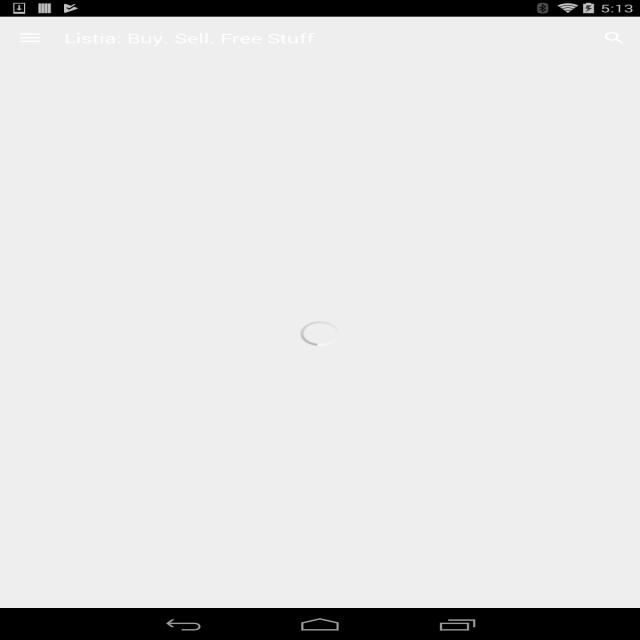button: (13, 30, 45, 48), (601, 30, 627, 48)
heading: (62, 31, 318, 48)
